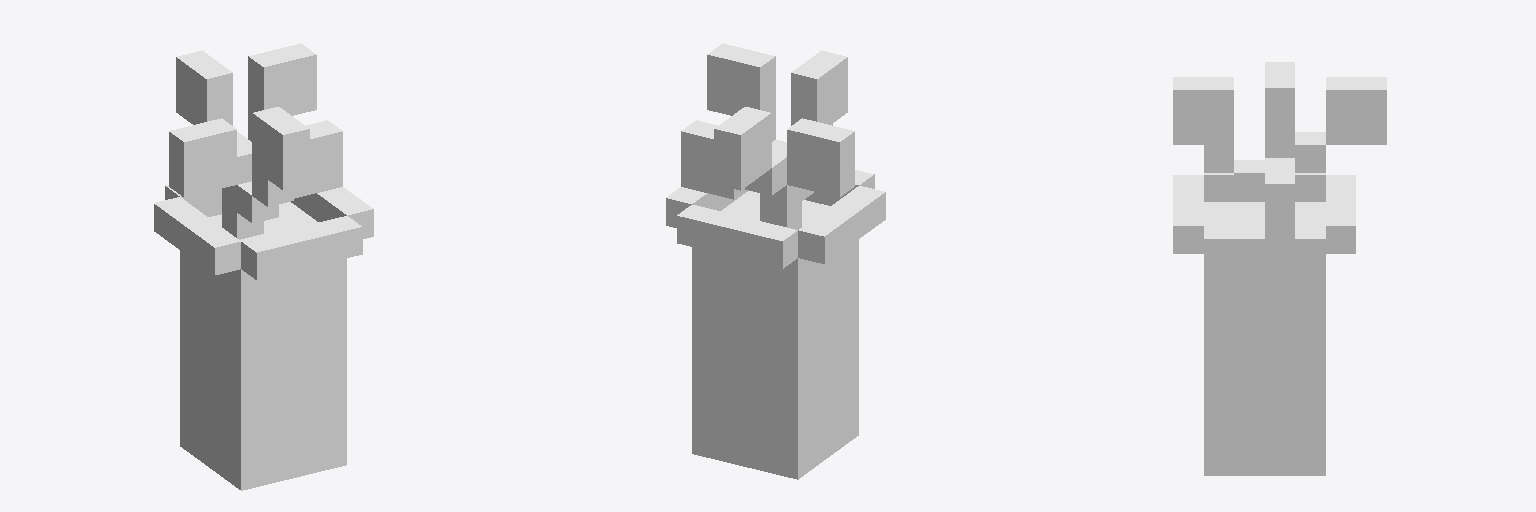
File: Interior_Furniture-85.obj
3 views of the same model, side by side, from view 1: azimuth 30°, elevation 25°; view 2: azimuth 150°, elevation 25°; view 3: azimuth 270°, elevation 25° (orthographic).
Parts seen in each view (by area): view 1: object 1; view 2: object 1; view 3: object 1.
Part boxes in pixels (x1,y1,x2,y2): object 1: (154,43,373,490); object 1: (666,43,885,479); object 1: (1173,62,1386,475).
Size of the model in its own units: 0.6 by 1.4 by 0.7.